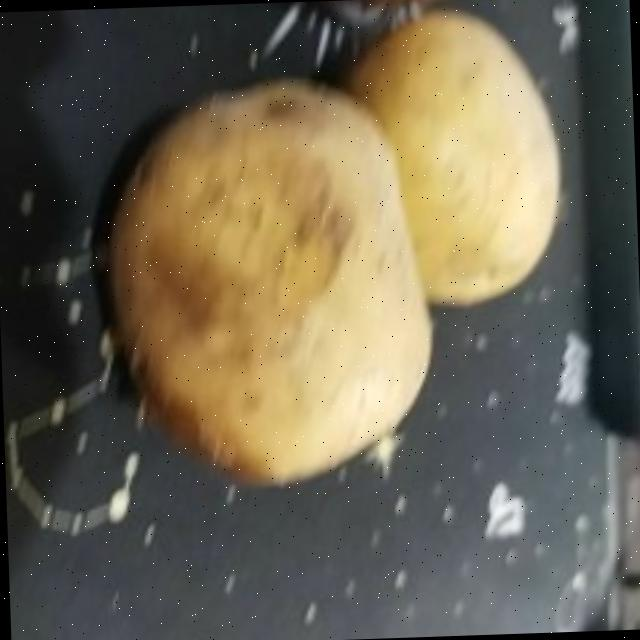Damaged potato: (78, 67, 436, 505)
Potato: (340, 3, 566, 310)
